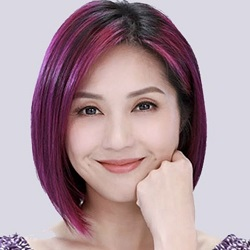unmask: (57, 72, 182, 204)
